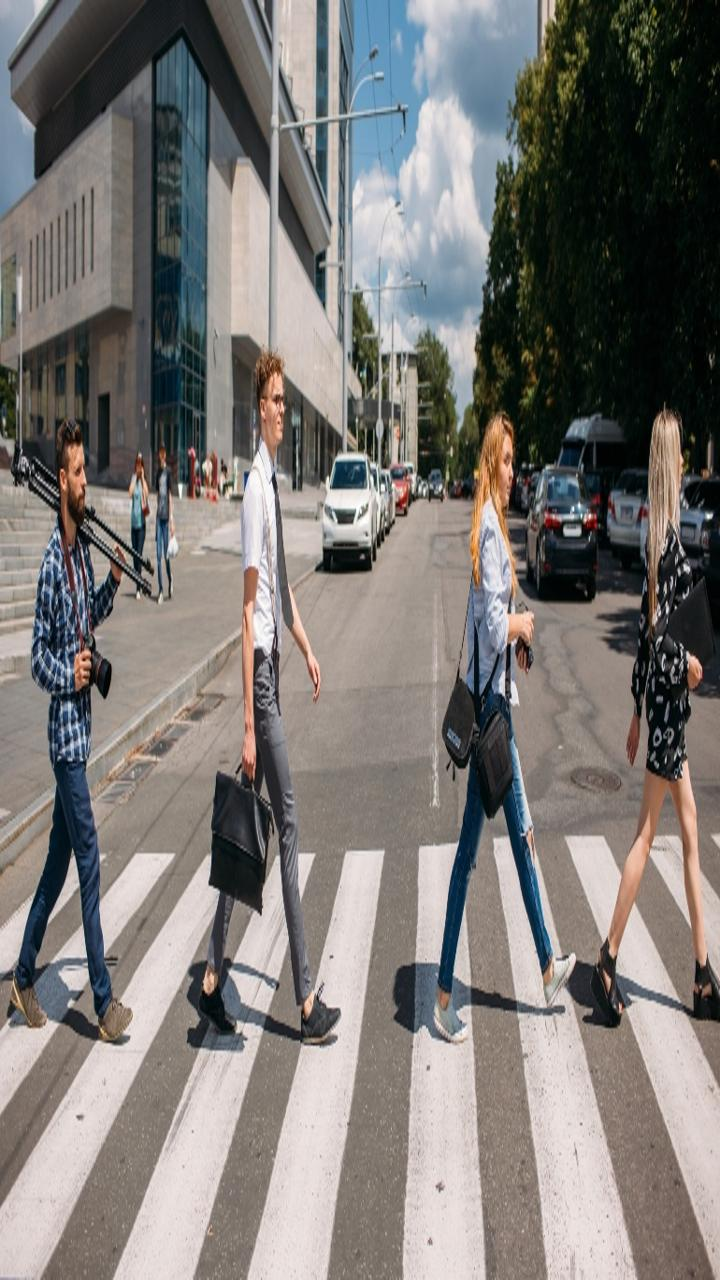pedestrian: (175, 334, 346, 1060), (418, 356, 577, 1068), (575, 368, 720, 1055), (15, 423, 162, 1077), (123, 447, 155, 603), (147, 441, 179, 597)
vehicle: (300, 439, 418, 573), (510, 461, 628, 595)
